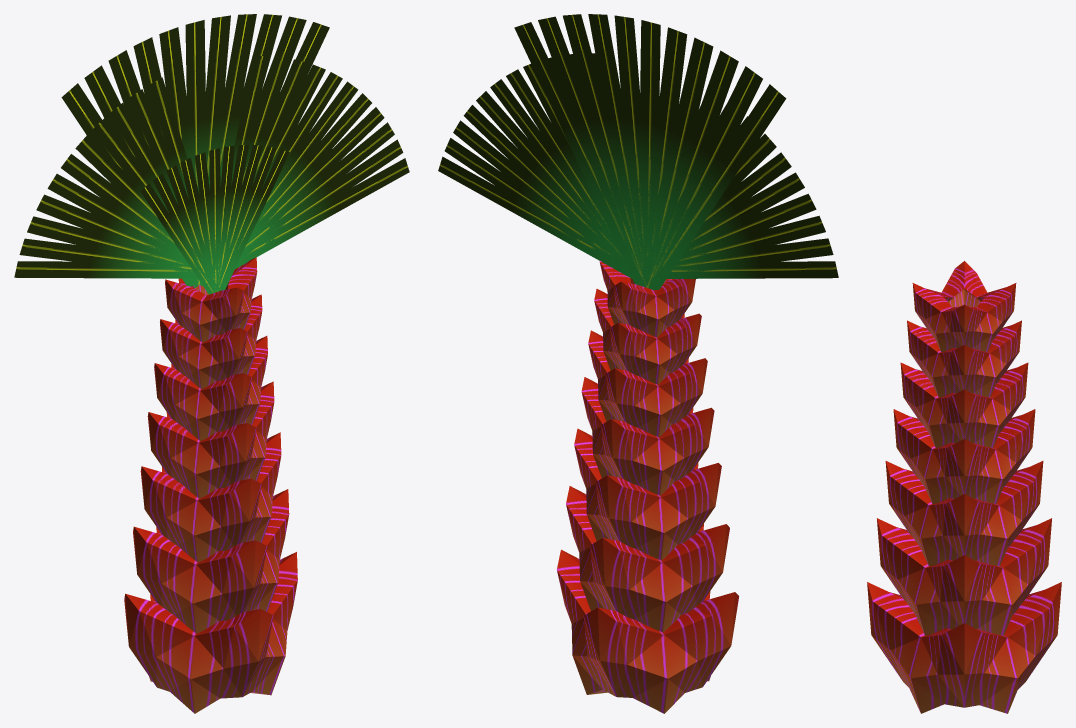
The model's file is palmier_01.fbx.
3 views of the same model, side by side, from view 1: azimuth 30°, elevation 25°; view 2: azimuth 150°, elevation 25°; view 3: azimuth 270°, elevation 25° (orthographic). The views are drawn at different scales.
Parts seen in each view (by area): view 1: polySurface_palmierTronc3 (×7), polySurface_palmierTronc (×7), pPlane6 (×4), pPlane7 (×4), pPlane8 (×4), pPlane5 (×4), pPlane1 (×4), pPlane11 (×4), pPlane2 (×4), pPlane3 (×4), pPlane9 (×4), pPlane10 (×4) (+1 smaller); view 2: polySurface_palmierTronc2 (×7), polySurface_palmierTronc1 (×7), pPlane5 (×3), pPlane4 (×3), pPlane6 (×3), pPlane7 (×3), pPlane1 (×2), pPlane10 (×2), pPlane2 (×2), pPlane11 (×2), pPlane8 (×2), pPlane3 (×2) (+1 smaller); view 3: polySurface_palmierTronc1 (×7), polySurface_palmierTronc (×7), polySurface_palmierTronc2, polySurface_palmierTronc3.
Boxes of the visible parts, x1,y1,x2,y2 form: polySurface_palmierTronc3 (×7): (125, 279, 260, 713); polySurface_palmierTronc (×7): (228, 257, 297, 696); pPlane6 (×4): (61, 20, 358, 293); pPlane7 (×4): (75, 15, 371, 289); pPlane8 (×4): (92, 14, 384, 285); pPlane5 (×4): (47, 27, 342, 290); pPlane1 (×4): (14, 56, 268, 294); pPlane11 (×4): (148, 22, 409, 289); pPlane2 (×4): (19, 56, 288, 293); pPlane3 (×4): (27, 50, 307, 293); pPlane9 (×4): (109, 14, 394, 291); pPlane10 (×4): (128, 16, 403, 289); polySurface_palmierTronc2 (×7): (597, 279, 734, 713); polySurface_palmierTronc1 (×7): (557, 260, 630, 696); pPlane5 (×3): (506, 27, 804, 274); pPlane4 (×3): (523, 37, 816, 290); pPlane6 (×3): (490, 20, 791, 285); pPlane7 (×3): (476, 15, 776, 284); pPlane1 (×2): (639, 84, 838, 289); pPlane10 (×2): (444, 16, 648, 287); pPlane2 (×2): (647, 66, 833, 289); pPlane11 (×2): (438, 22, 654, 285); pPlane8 (×2): (463, 14, 648, 271); pPlane3 (×2): (639, 50, 825, 289); polySurface_palmierTronc1 (×7): (964, 283, 1061, 713); polySurface_palmierTronc (×7): (867, 283, 964, 713); polySurface_palmierTronc2: (964, 261, 1005, 307); polySurface_palmierTronc3: (926, 261, 964, 307).
Size of the model in its own units: 3.18 by 5.1 by 1.38.
